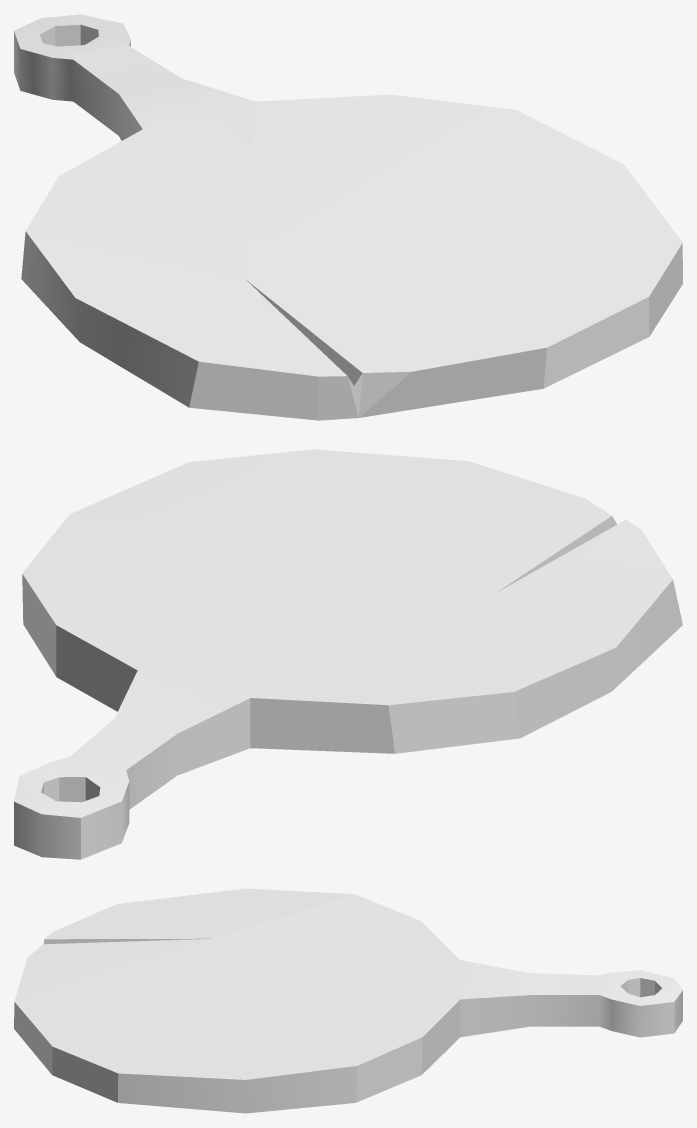
Rendered from PT_Choping_Board_02.fbx.
3 views of the same model, one above another, from view 1: azimuth 30°, elevation 25°; view 2: azimuth 150°, elevation 25°; view 3: azimuth 270°, elevation 25° (orthographic). The views are drawn at different scales.
Visible parts, largest first — view 1: PT_Choping_Board_02; view 2: PT_Choping_Board_02; view 3: PT_Choping_Board_02.
Part boxes in pixels (left/top/right/bottom): PT_Choping_Board_02: left=14, top=14, right=682, bottom=420; PT_Choping_Board_02: left=14, top=449, right=682, bottom=859; PT_Choping_Board_02: left=14, top=888, right=682, bottom=1113.
Size of the model in its own units: 46.48 by 4.87 by 68.63.
Materials: 1 (1 with a texture image).
